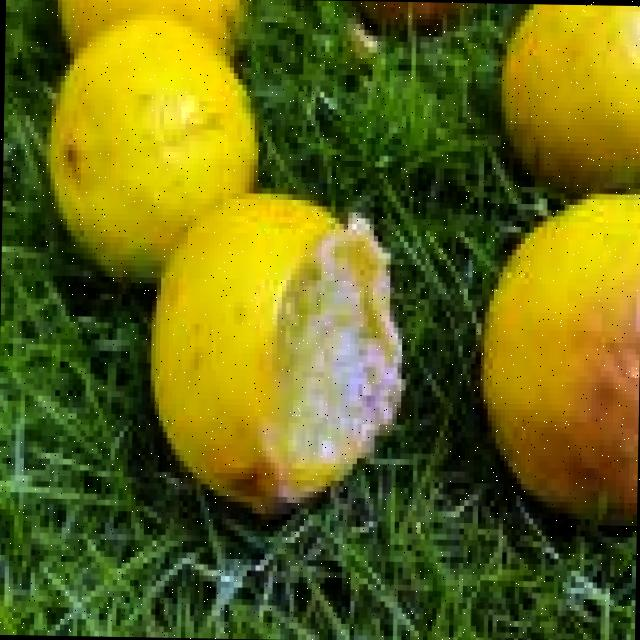Bad_Lime-0-1-day: (146, 187, 406, 525), (474, 193, 640, 542)
Good_Lime-10-21-days: (46, 0, 259, 288), (501, 4, 640, 193)
